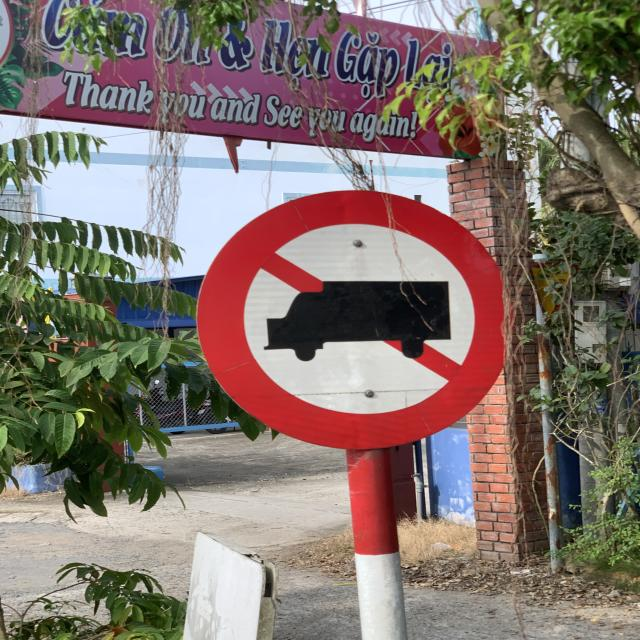Cam_Xe_Tai: (202, 191, 520, 454)
